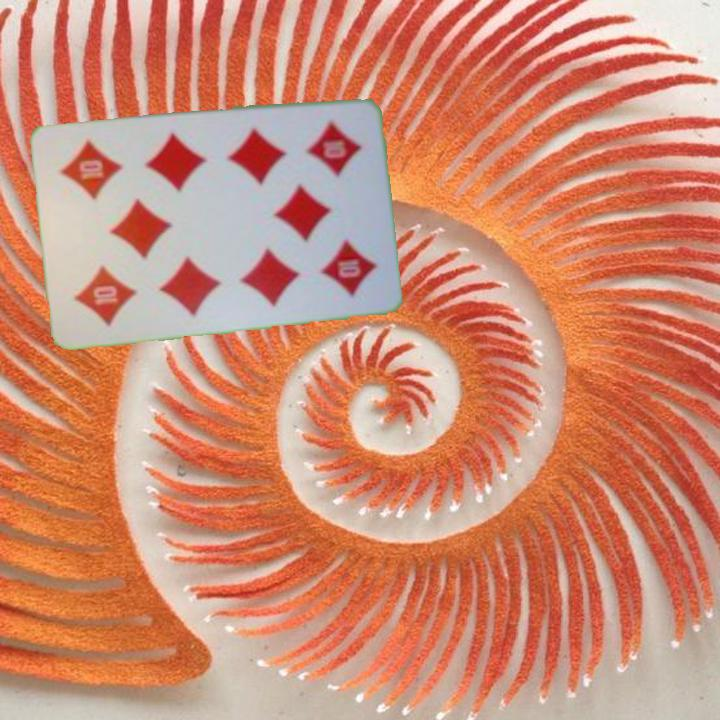d_10.png: (56, 226, 151, 334), (281, 109, 376, 216)
